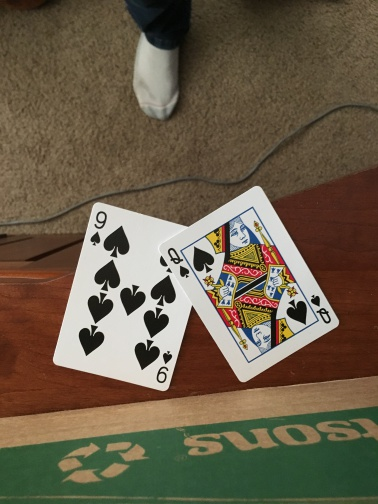nine: (43, 202, 171, 394)
queen: (169, 184, 339, 378)
